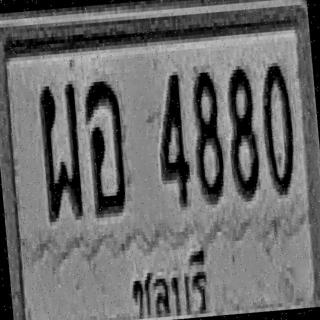A28: (37, 78, 85, 220)
A43: (82, 76, 129, 215)
N00: (258, 58, 298, 196)
N04: (152, 71, 192, 208)
N08: (222, 62, 261, 199), (188, 68, 227, 202)
P13: (124, 246, 213, 320)
